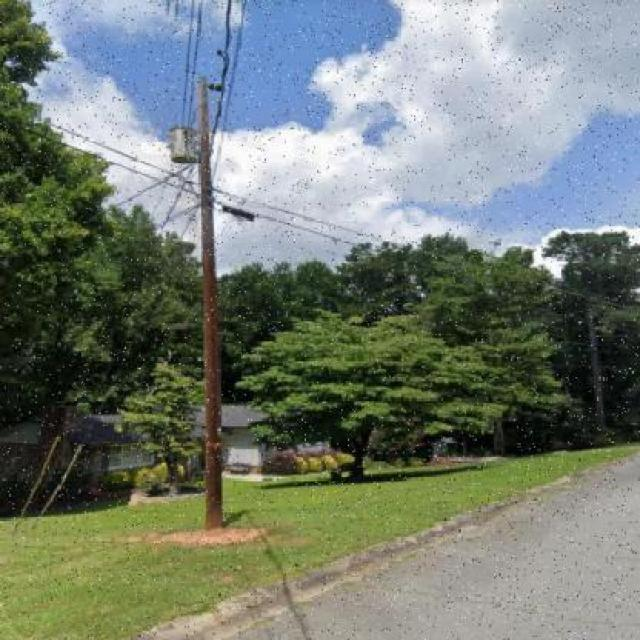pole: (141, 28, 256, 535)
